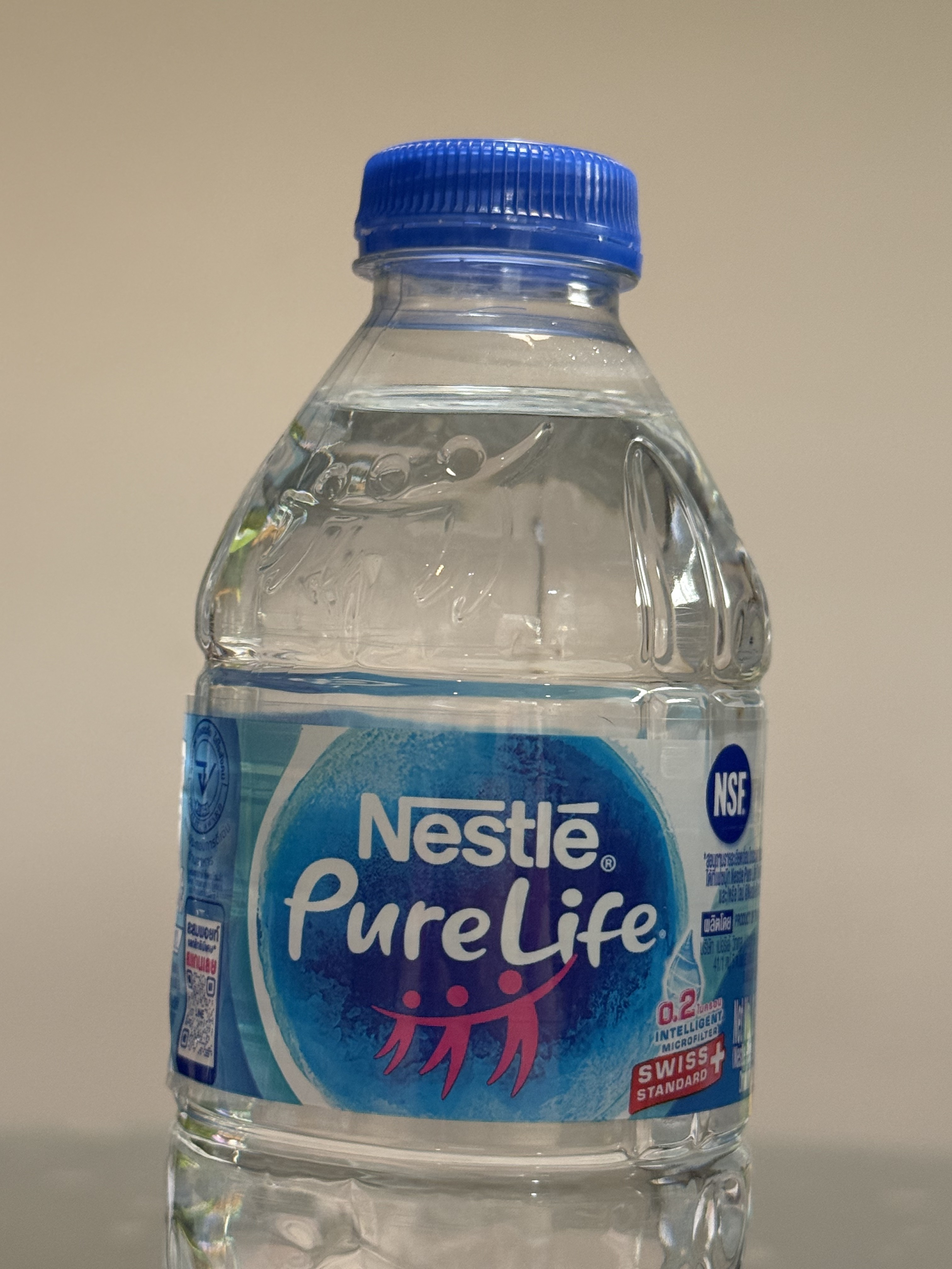closed_cap: (350, 133, 646, 285)
